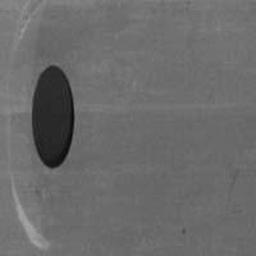Punching: (31, 65, 77, 172)
